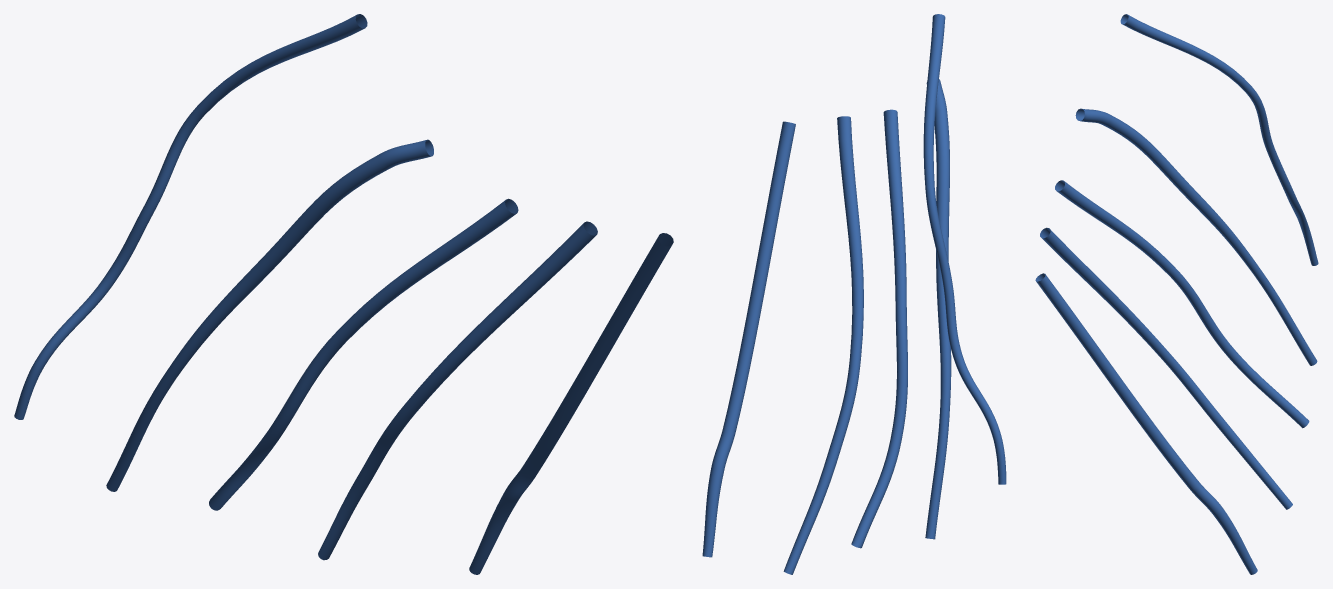
The picture shows the model from 3 angles, left to right: view 1: azimuth 30°, elevation 25°; view 2: azimuth 150°, elevation 25°; view 3: azimuth 270°, elevation 25°; orthographic projection. The views are drawn at different scales.
Visible parts, largest first — view 1: 右侧跖背静脉; view 2: 右侧跖背静脉; view 3: 右侧跖背静脉.
Boxes of the visible parts, left/top/right/bottom form: 右侧跖背静脉: left=14, top=14, right=673, bottom=574; 右侧跖背静脉: left=702, top=14, right=1006, bottom=574; 右侧跖背静脉: left=1035, top=14, right=1318, bottom=574.
Bounding box in the file's own units: 0.09 × 0.1233 × 0.0649.
